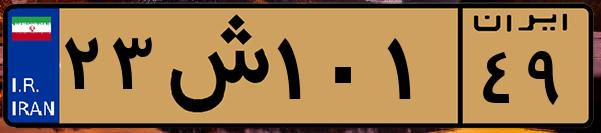0: (330, 28, 385, 110)
1: (270, 28, 330, 110), (385, 28, 445, 110)
2: (57, 26, 110, 100)
3: (110, 28, 158, 98)
4: (475, 38, 525, 113)
9: (525, 38, 570, 115)
ش: (158, 12, 270, 120)
